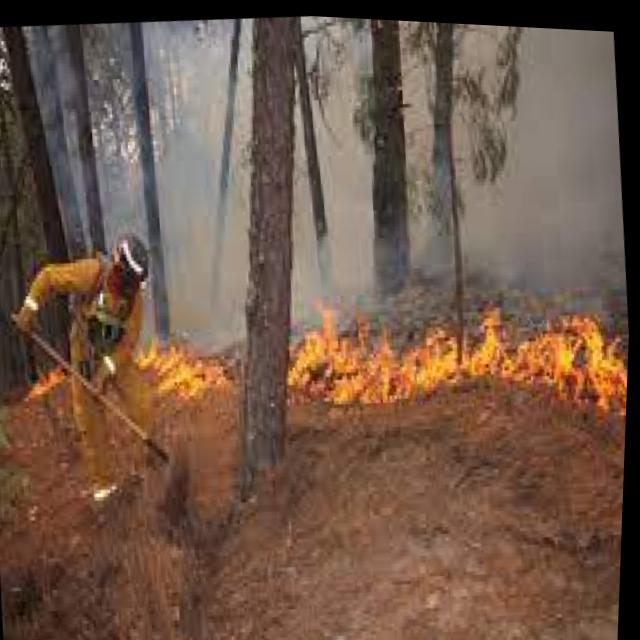Fire: (277, 289, 632, 449), (17, 314, 239, 419)
